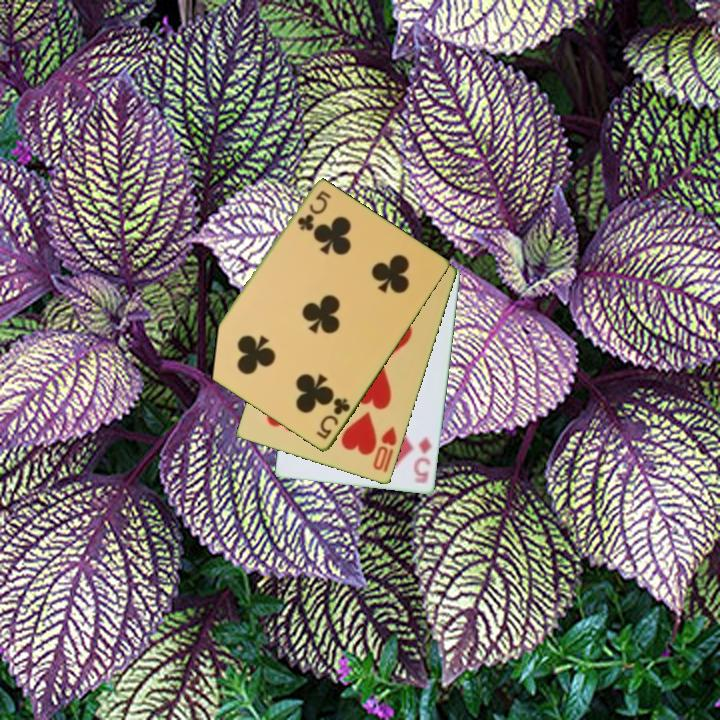10h: (369, 423, 400, 474)
5c: (313, 394, 353, 443), (294, 187, 333, 234)
5d: (411, 433, 435, 487)
